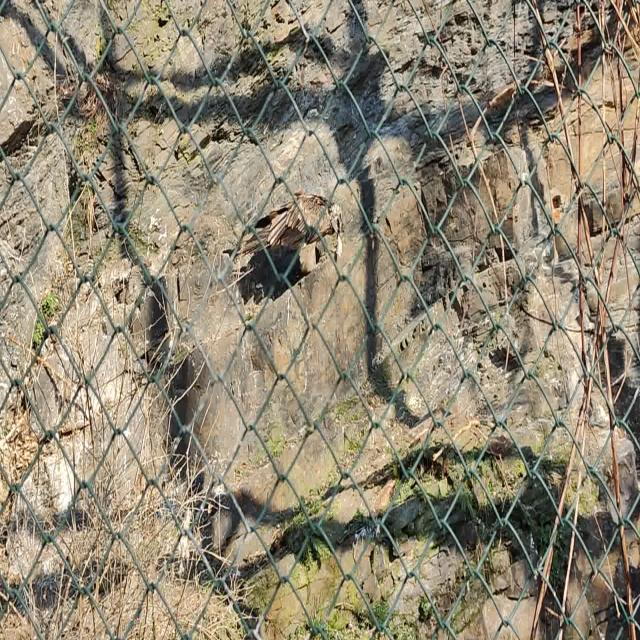bird: (223, 194, 344, 272)
